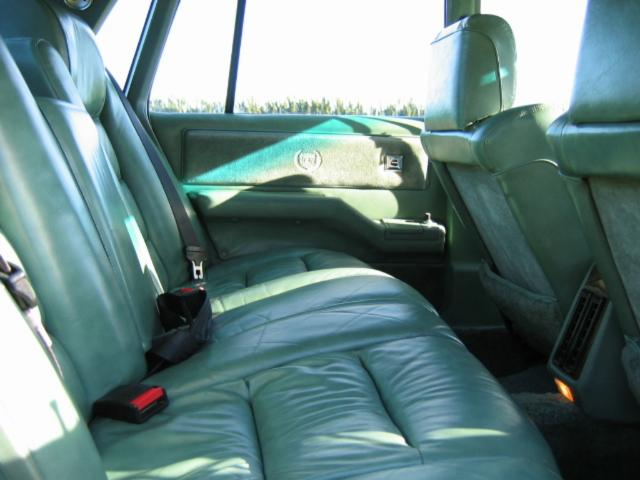Seatbelt: (104, 71, 208, 278)
